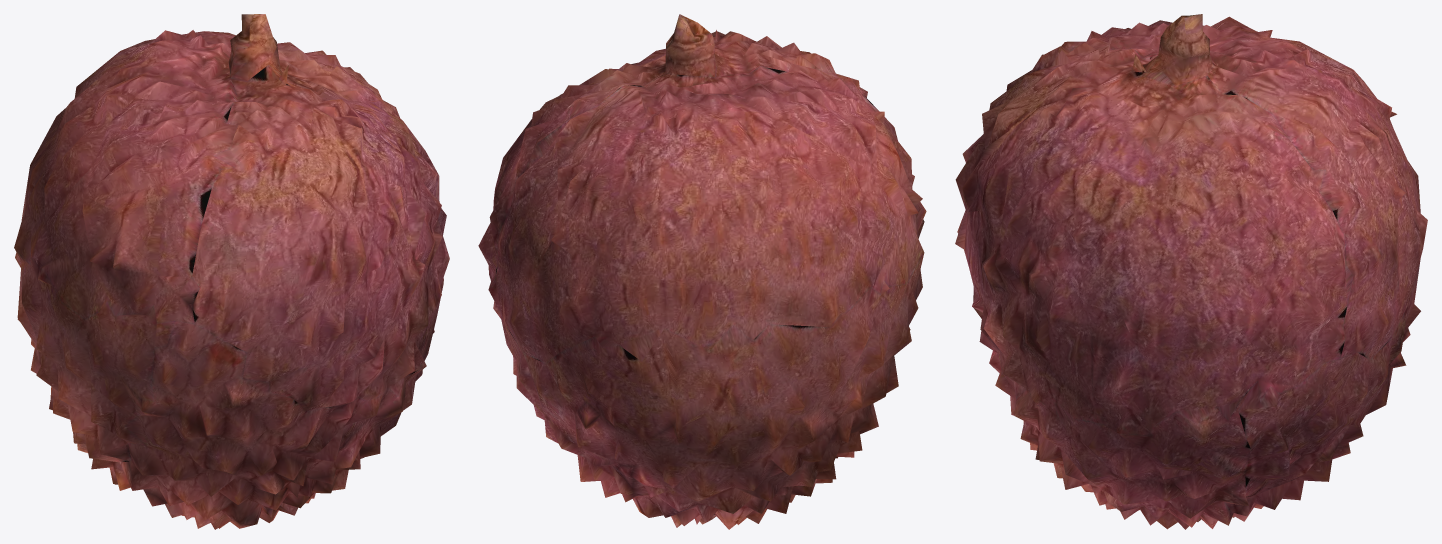
File: food_lychee_01.glb
3 renders of one model, left to right at view 1: azimuth 30°, elevation 25°; view 2: azimuth 150°, elevation 25°; view 3: azimuth 270°, elevation 25°, orthographic. The views are drawn at different scales.
Visible parts, largest first — view 1: food_lychee_01; view 2: food_lychee_01; view 3: food_lychee_01.
Boxes of the visible parts, box(x1,y1,x2,y2) form: food_lychee_01: box(14, 14, 449, 529); food_lychee_01: box(478, 14, 926, 529); food_lychee_01: box(955, 14, 1427, 529).
Bounding box in the file's own units: 0.0405 × 0.0505 × 0.0419.
1 material, 1 textured.
